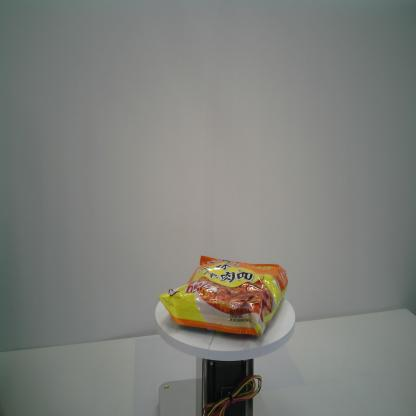Instant Noodles: (157, 252, 290, 337)
